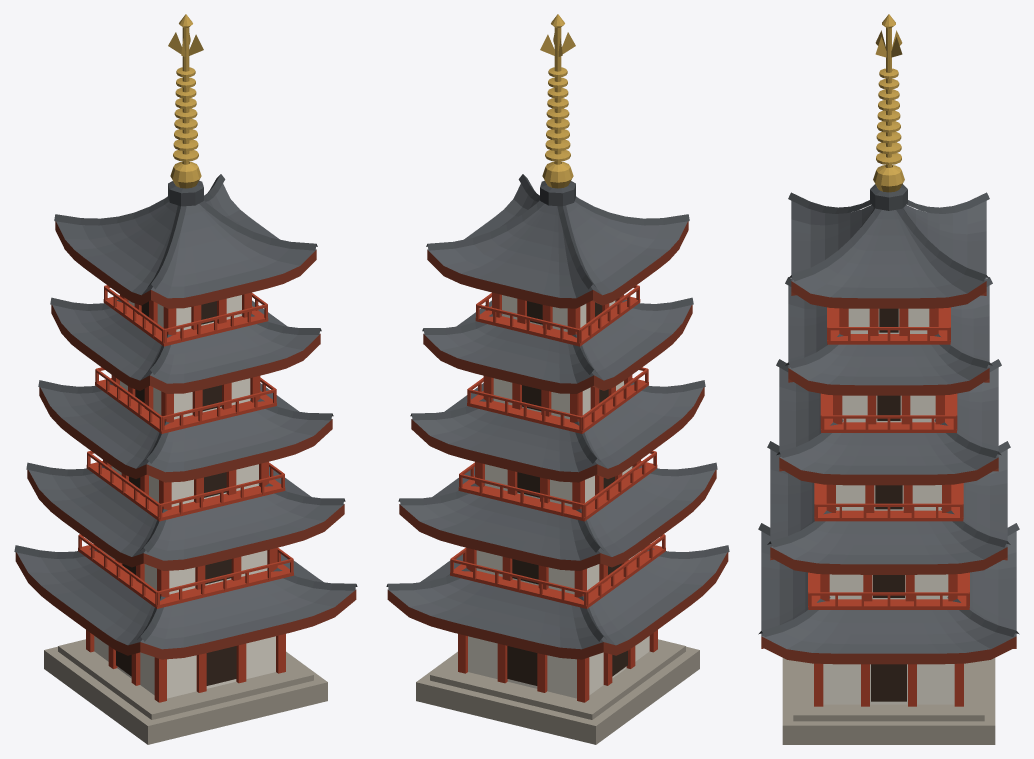
The model's file is pagoda.glb.
The picture shows the model from 3 angles, left to right: view 1: azimuth 30°, elevation 25°; view 2: azimuth 150°, elevation 25°; view 3: azimuth 270°, elevation 25°; orthographic projection. The views are drawn at different scales.
Parts seen in each view (by area): view 1: Pagoda_static; view 2: Pagoda_static; view 3: Pagoda_static.
Part boxes in pixels (left/top/right/bottom): Pagoda_static: left=14, top=14, right=357, bottom=744; Pagoda_static: left=386, top=14, right=729, bottom=744; Pagoda_static: left=758, top=14, right=1019, bottom=744.
Bounding box in the file's own units: 12.31 × 35.6 × 12.31.
